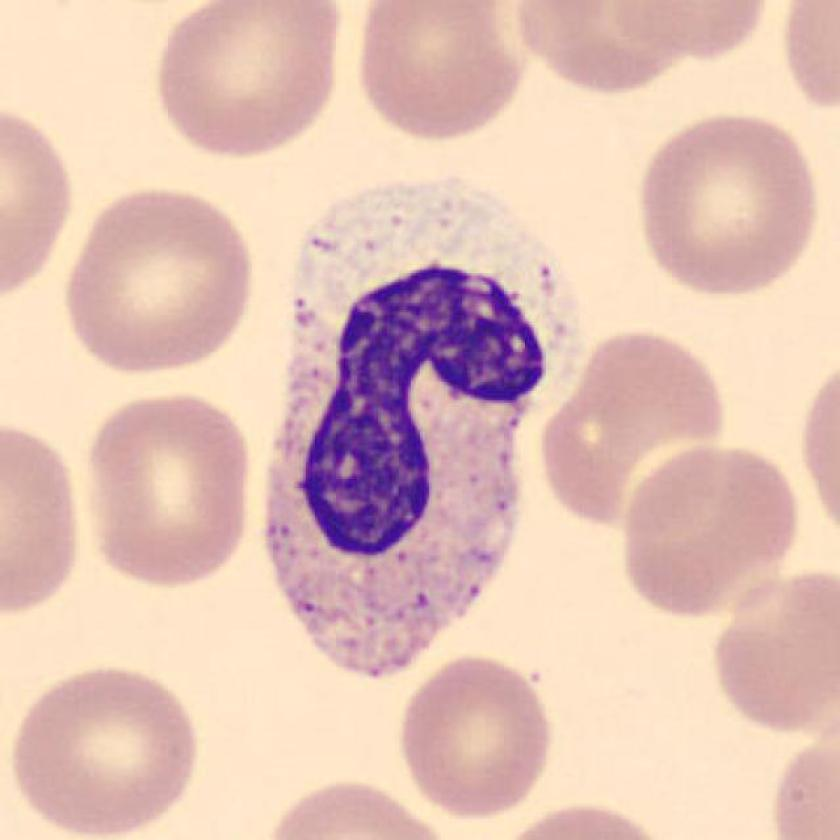neutrophil: (265, 181, 585, 673)
